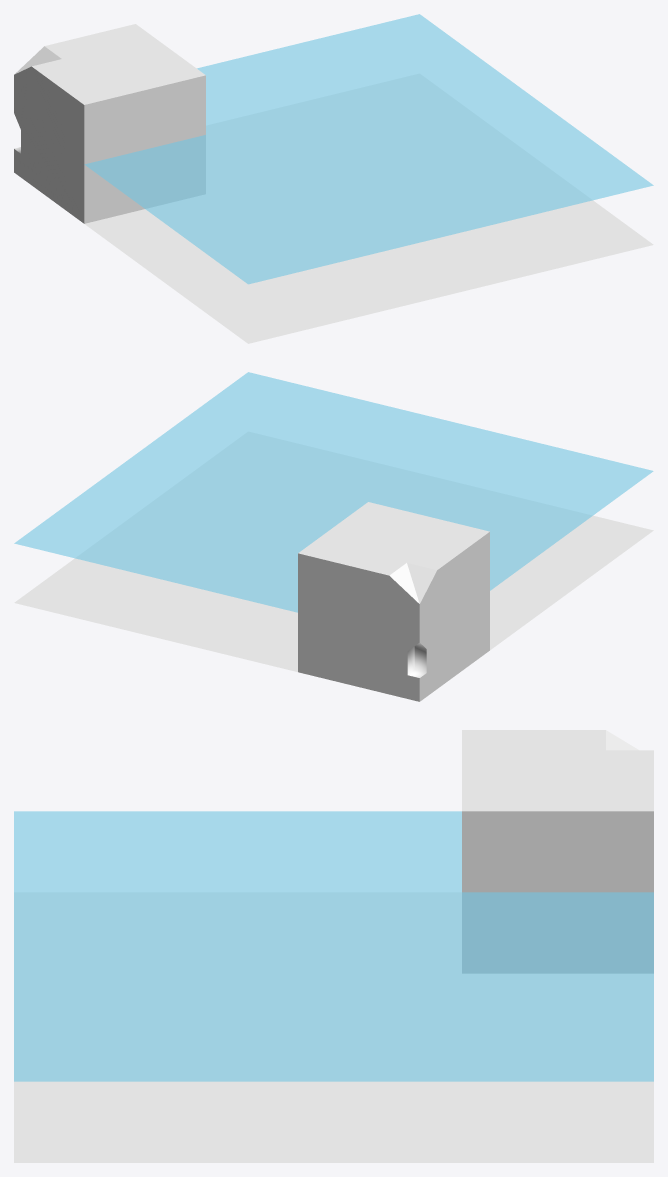
Rendered from fountain-corner-inner-square.glb.
3 views of the same model, one above another, from view 1: azimuth 30°, elevation 25°; view 2: azimuth 150°, elevation 25°; view 3: azimuth 270°, elevation 25° (orthographic). The views are drawn at different scales.
Visible parts, largest first — view 1: fountain-corner-inner-square, (%ignore); view 2: fountain-corner-inner-square, (%ignore); view 3: fountain-corner-inner-square, (%ignore).
Part boxes in pixels (bbox=[...]): fountain-corner-inner-square: bbox=[14, 24, 653, 343]; (%ignore): bbox=[84, 14, 653, 284]; fountain-corner-inner-square: bbox=[14, 432, 653, 701]; (%ignore): bbox=[14, 372, 653, 612]; fountain-corner-inner-square: bbox=[14, 730, 653, 1162]; (%ignore): bbox=[14, 811, 653, 1081].
Size of the model in its own units: 1 by 0.28 by 1.
